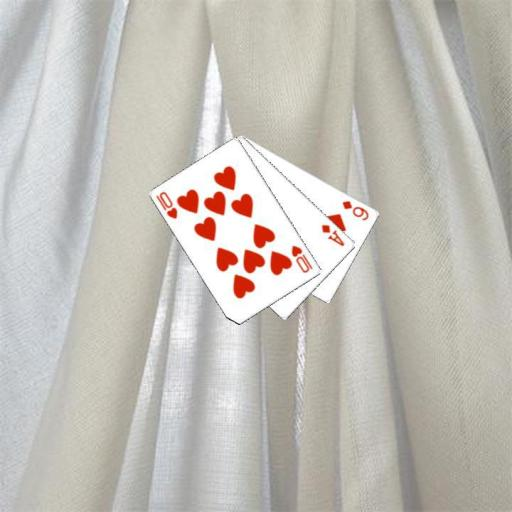10H: (153, 189, 179, 221), (289, 242, 314, 274)
6D: (339, 197, 371, 222)
AD: (319, 221, 346, 248)
